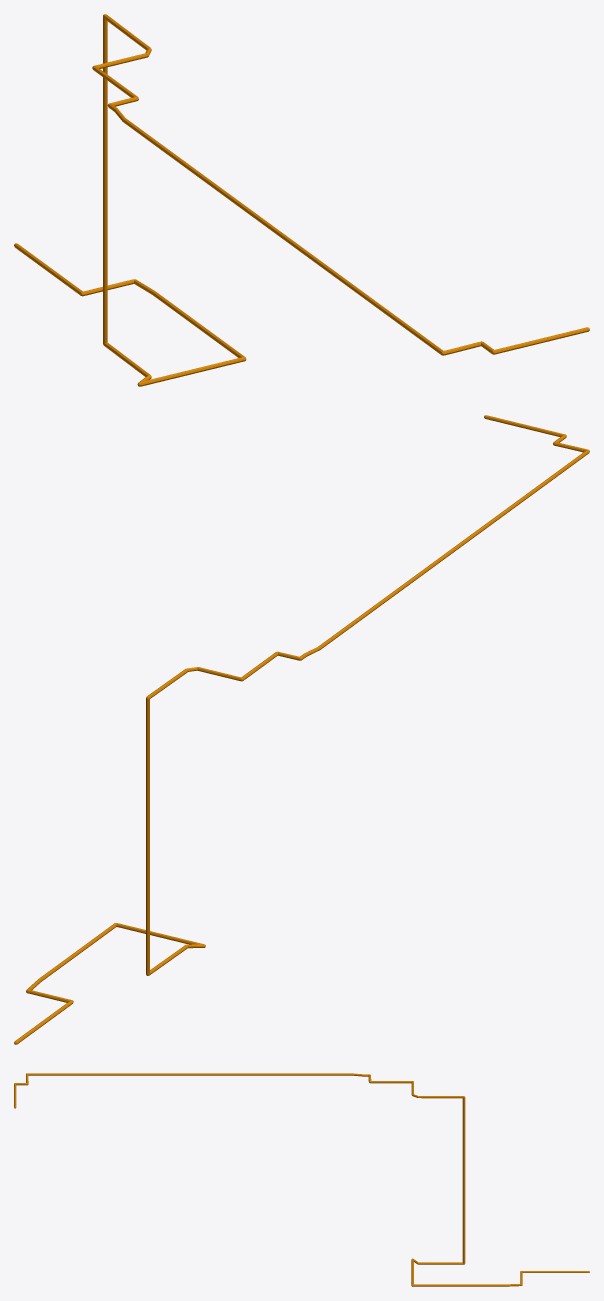
3 views of the same model, one above another, from view 1: azimuth 30°, elevation 25°; view 2: azimuth 150°, elevation 25°; view 3: azimuth 270°, elevation 25° (orthographic). The views are drawn at different scales.
Bounding box in the file's own units: 885 × 1520 × 4707.
